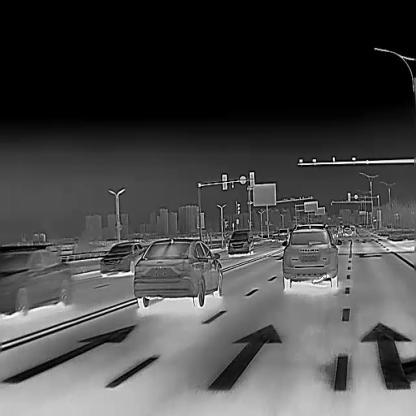car: (133, 237, 224, 307), (0, 244, 72, 315), (282, 223, 340, 288), (98, 240, 146, 276), (228, 229, 254, 255), (277, 228, 289, 241), (328, 225, 338, 240), (343, 226, 353, 237), (349, 224, 356, 234), (273, 231, 279, 238)
